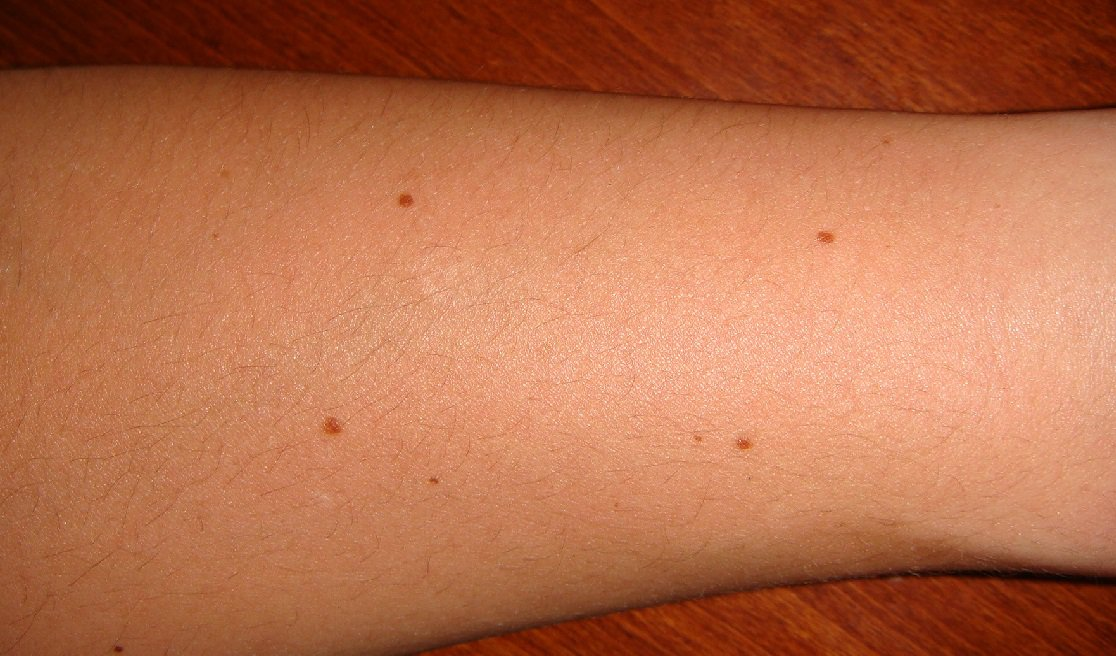mole: (310, 405, 354, 445), (809, 217, 849, 255), (729, 424, 768, 460), (100, 622, 139, 656), (388, 182, 423, 216), (420, 466, 453, 494)
